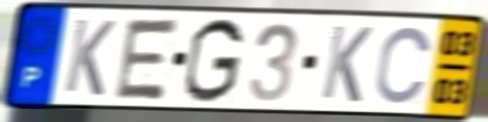3: (247, 21, 300, 104)
C: (372, 24, 435, 108)
E: (111, 16, 183, 103)
G: (181, 15, 247, 106)
K: (318, 22, 375, 106), (61, 16, 118, 99)
